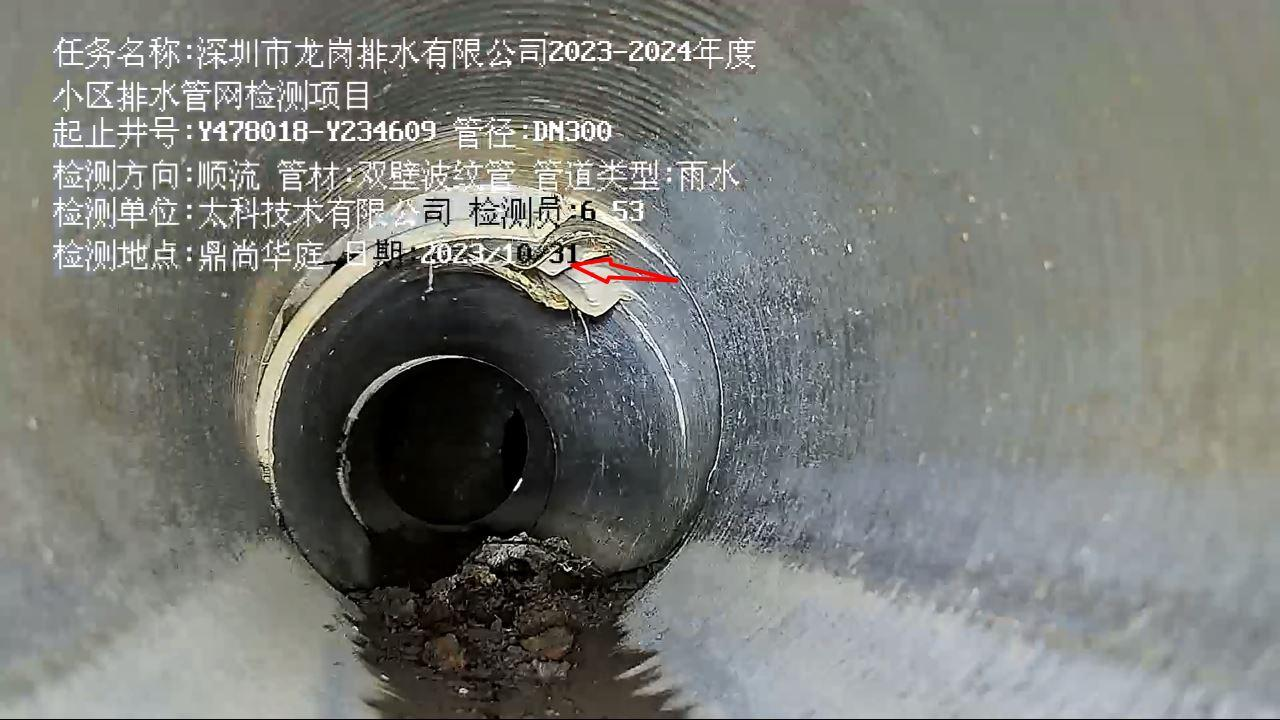CKTJ: (241, 182, 737, 555)
PL: (419, 211, 660, 340)
